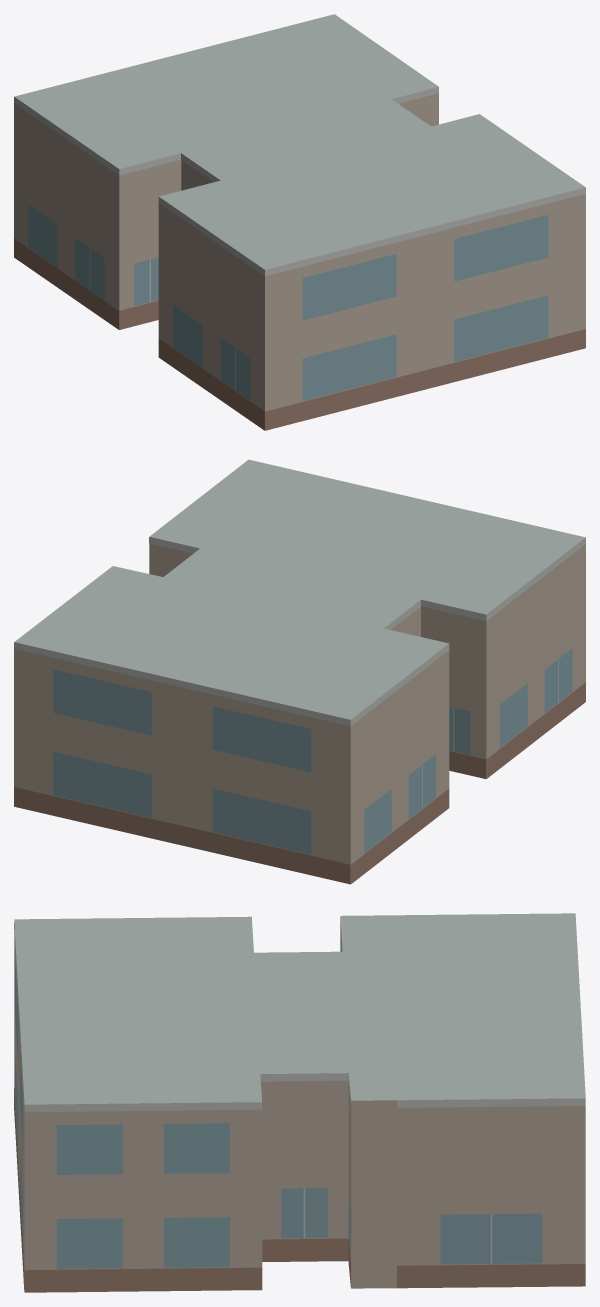
Rendered from survey-upis-32805698.glb.
3 renders of one model, top to bottom at view 1: azimuth 30°, elevation 25°; view 2: azimuth 150°, elevation 25°; view 3: azimuth 270°, elevation 25°, orthographic. The views are drawn at different scales.
Visible parts, largest first — view 1: survey-upis-32805698.tmp; view 2: survey-upis-32805698.tmp; view 3: survey-upis-32805698.tmp.
Part boxes in pixels (x1=…): survey-upis-32805698.tmp: x1=14, y1=14, x2=585, y2=430; survey-upis-32805698.tmp: x1=14, y1=459, x2=585, y2=884; survey-upis-32805698.tmp: x1=14, y1=913, x2=585, y2=1292.
Bounding box in the file's own units: 13.34 × 6.1 × 16.83.
